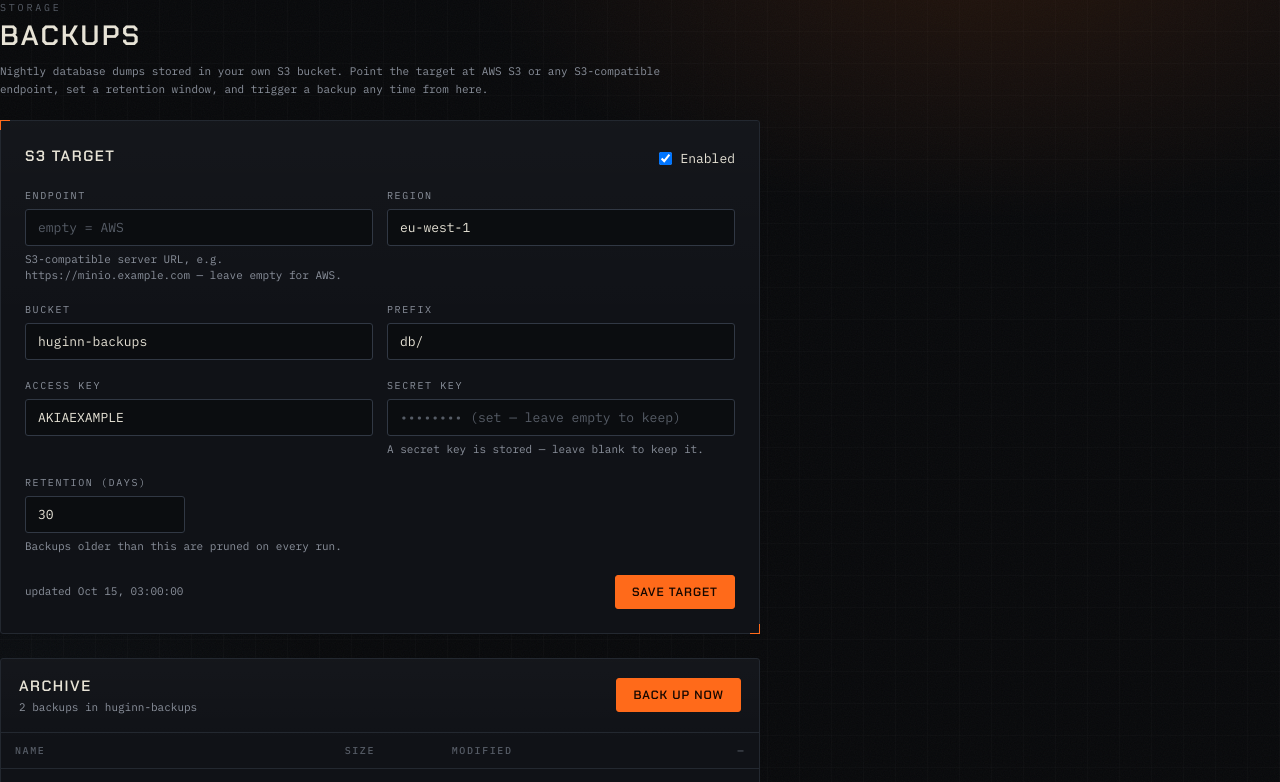
it: BackupsPage › runs a backup on demand and shows the result
This screenshot has width=1280, height=782.
Click the button "Back up now" at [679, 695], box [616, 678, 741, 712]
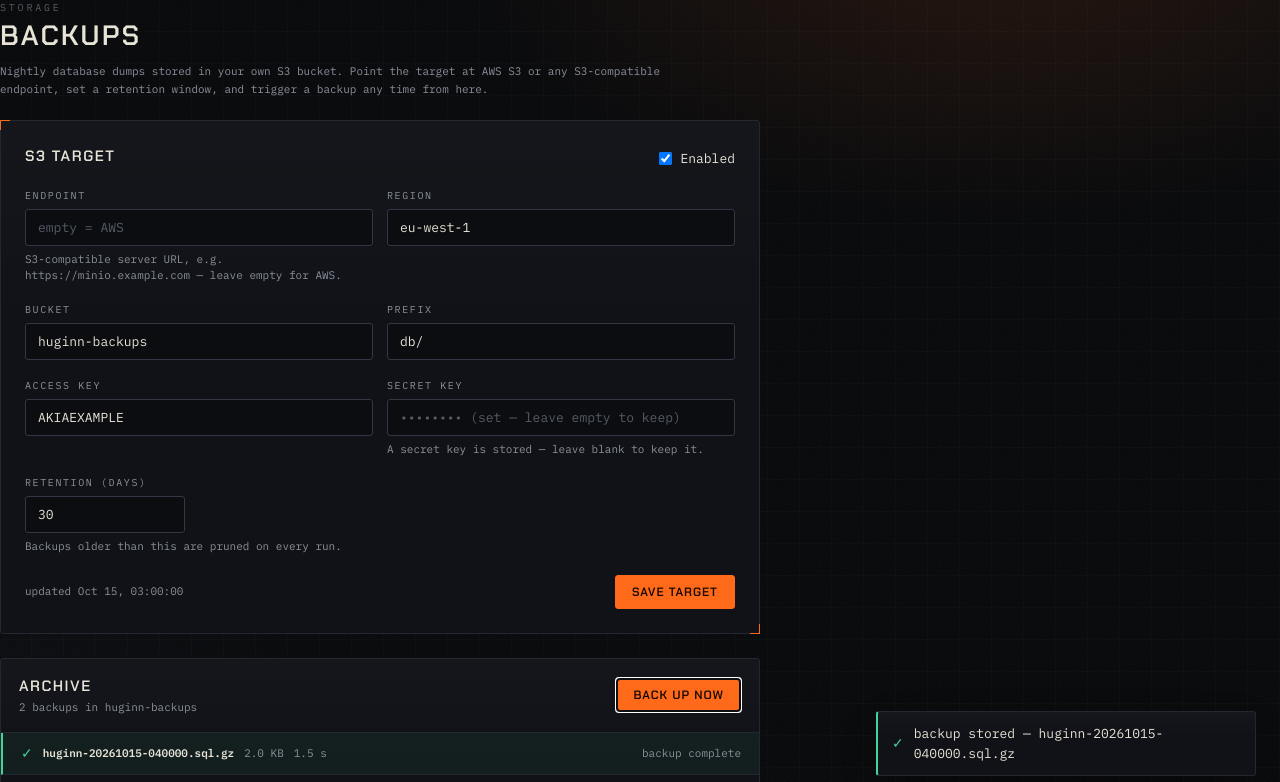
Check: the text "backup complete" is shown, box [642, 745, 741, 761]
Check: the text "huginn-20261015-040000.sql.gz" is shown, box [43, 746, 234, 760]
Check: the text "2.0 KB" is shown, box [244, 745, 284, 761]
